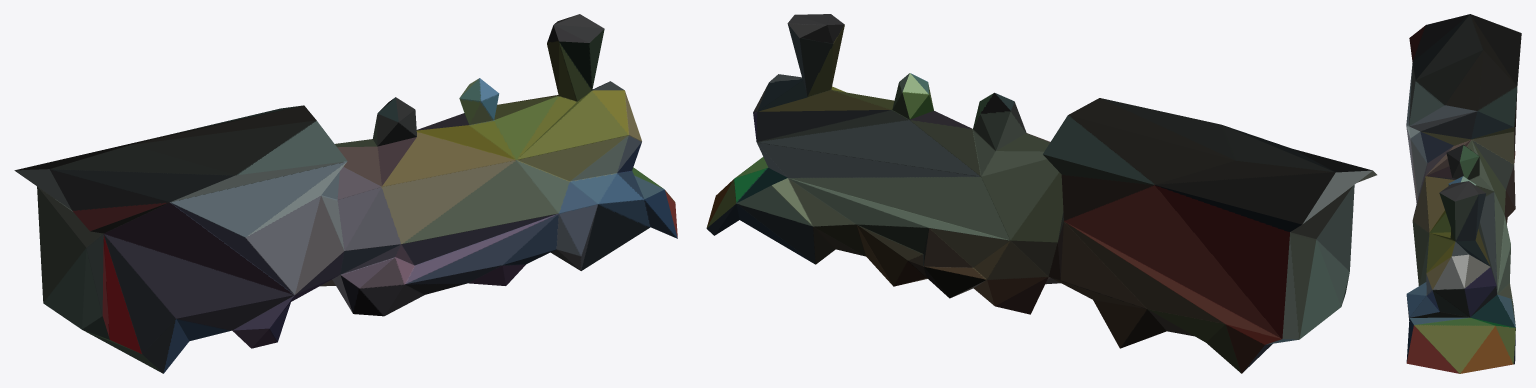
Rendered from train.fbx.
3 views of the same model, side by side, from view 1: azimuth 30°, elevation 25°; view 2: azimuth 150°, elevation 25°; view 3: azimuth 270°, elevation 25° (orthographic). The views are drawn at different scales.
Visible parts, largest first — view 1: Mesh_0; view 2: Mesh_0; view 3: Mesh_0.
Part boxes in pixels (x1,y1,x2,y2): Mesh_0: [14, 14, 677, 373]; Mesh_0: [706, 14, 1376, 373]; Mesh_0: [1406, 14, 1521, 373].
Size of the model in its own units: 120 by 41.47 by 25.56.
1 material, 1 textured.
